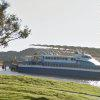Boat: (14, 42, 99, 89)
